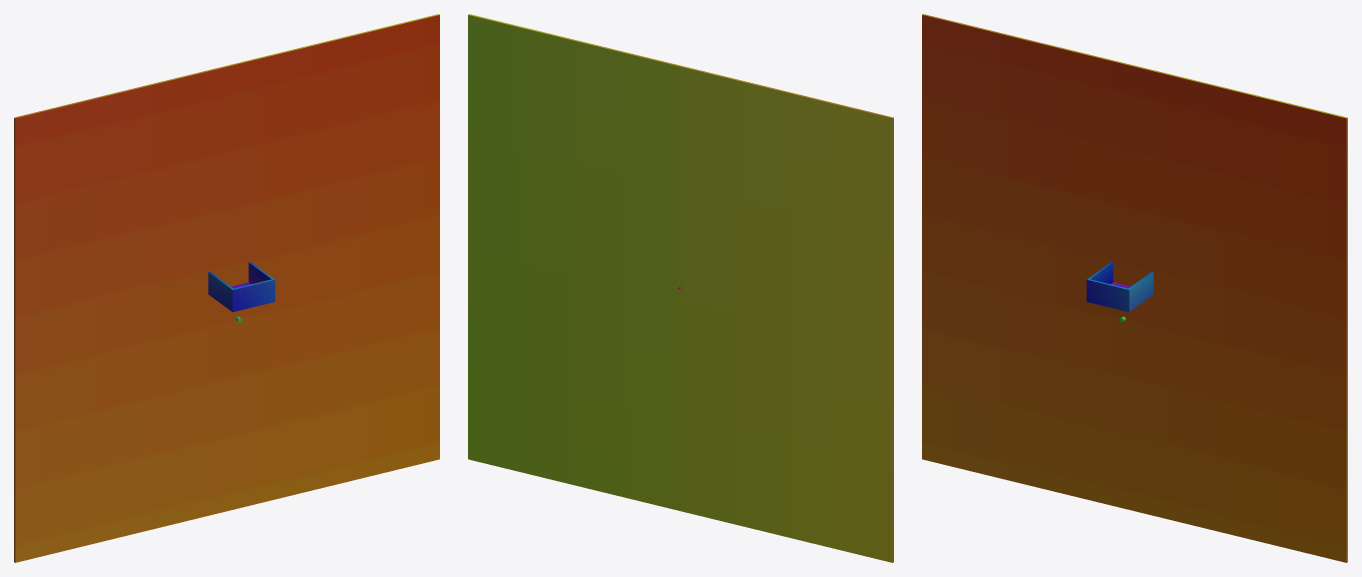
The model's file is cytanb-egocentric-world.fbx.
The picture shows the model from 3 angles, left to right: view 1: azimuth 30°, elevation 25°; view 2: azimuth 150°, elevation 25°; view 3: azimuth 330°, elevation 25°; orthographic projection.
Parts seen in each view (by area): view 1: ego_world, ego_basket; view 2: ego_world; view 3: ego_world, ego_basket.
Boxes of the visible parts, x1=… form: ego_world: x1=14, y1=14, x2=439, y2=562; ego_basket: x1=208, y1=262, x2=275, y2=311; ego_world: x1=468, y1=14, x2=893, y2=562; ego_world: x1=922, y1=14, x2=1347, y2=562; ego_basket: x1=1086, y1=262, x2=1153, y2=311.
Size of the model in its own units: 20 by 20 by 2.3.
